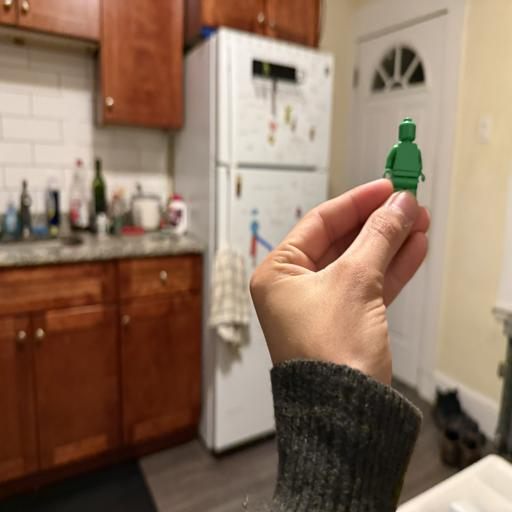Minifig: (383, 118, 425, 196)
